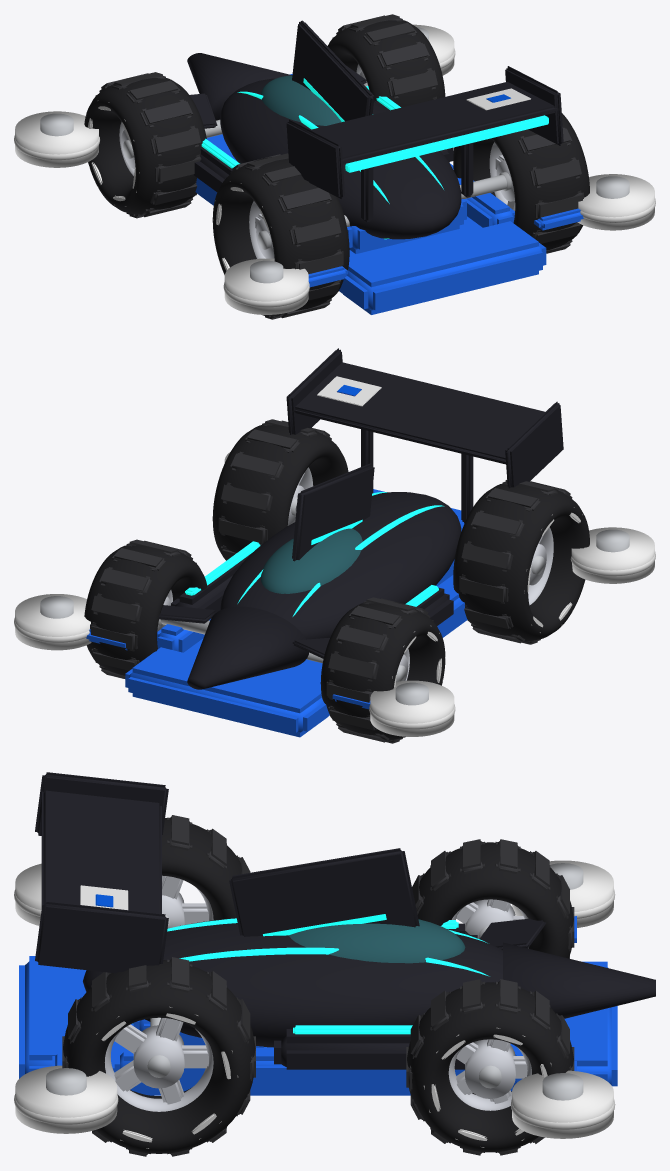
File: minicar.glb
3 views of the same model, one above another, from view 1: azimuth 30°, elevation 25°; view 2: azimuth 150°, elevation 25°; view 3: azimuth 270°, elevation 25° (orthographic). The views are drawn at different scales.
Parts seen in each view (by area): view 1: shell, chassis_rear, wheel_FR_tire, wheel_RR_tire, rear_wing, wheel_RL_tire, wheel_FL_tire, blade, roller_FR_body, roller_RR_body, endplate, nose (+37 smaller); view 2: shell, wheel_RR_tire, rear_wing, chassis_front, wheel_RL_tire, wheel_FR_tire, nose, wheel_FL_tire, blade, canopy, roller_FR_body, endplate (+33 smaller); view 3: shell, wheel_RL_tire, rear_wing, wheel_FL_tire, blade, endplate.001, wheel_FR_tire, nose, rail.001, chassis_rear, canopy, fender.001 (+38 smaller).
Part boxes in pixels (x1,y1,x2,y2): shell: (220, 78, 461, 239); chassis_rear: (339, 221, 546, 314); wheel_FR_tire: (84, 77, 206, 214); wheel_RR_tire: (212, 157, 349, 316); rear_wing: (310, 82, 558, 164); wheel_RL_tire: (453, 113, 589, 250); wheel_FL_tire: (328, 19, 445, 107); blade: (292, 20, 374, 121); roller_FR_body: (15, 111, 98, 167); roller_RR_body: (224, 258, 308, 314); endplate: (286, 119, 344, 199); nose: (187, 53, 291, 120); shell: (220, 492, 461, 639); wheel_RR_tire: (453, 482, 589, 641); rear_wing: (294, 362, 544, 464); chassis_front: (125, 647, 329, 737); wheel_RL_tire: (212, 425, 348, 560); wheel_FR_tire: (320, 602, 445, 739); nose: (187, 606, 308, 689); wheel_FL_tire: (84, 544, 207, 675); blade: (292, 463, 374, 561); canopy: (261, 528, 362, 593); roller_FR_body: (370, 680, 454, 736); endplate: (505, 401, 563, 488); shell: (83, 917, 502, 1047); wheel_RL_tire: (63, 960, 255, 1153); rear_wing: (41, 790, 161, 913); wheel_FL_tire: (407, 982, 573, 1152); blade: (229, 848, 419, 936); endplate.001: (35, 901, 168, 973); wheel_FR_tire: (417, 842, 573, 958); nose: (503, 942, 655, 1018); rail.001: (114, 1047, 521, 1095); chassis_rear: (19, 956, 86, 1078); canopy: (288, 919, 465, 963); fender.001: (274, 1029, 464, 1069).
Bounding box in the file's own units: 4.72 × 2.05 × 5.04.
